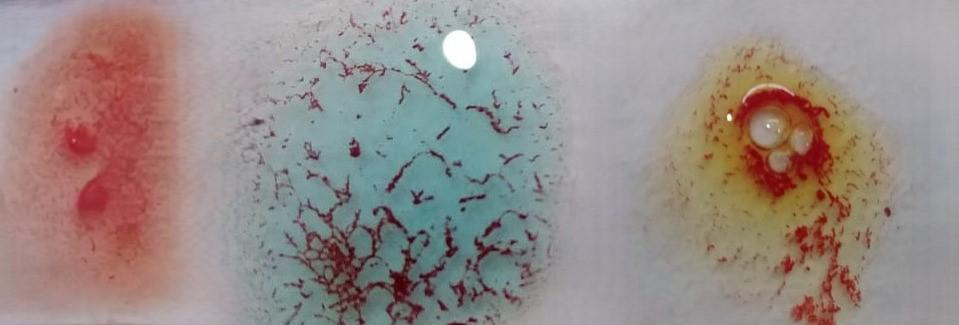A: (251, 5, 549, 325)
B: (675, 33, 898, 325)
D: (4, 20, 169, 304)
